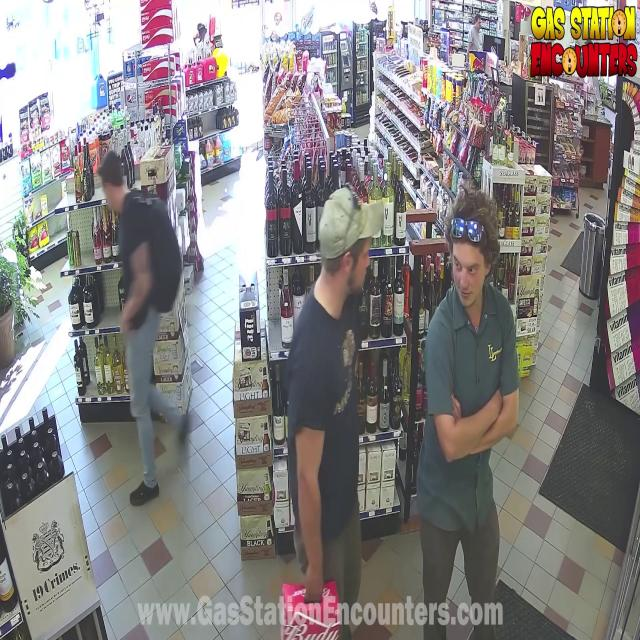Product: (280, 566, 344, 640)
normal: (402, 178, 548, 640), (94, 125, 202, 512)
shoplifting: (258, 170, 395, 640)
